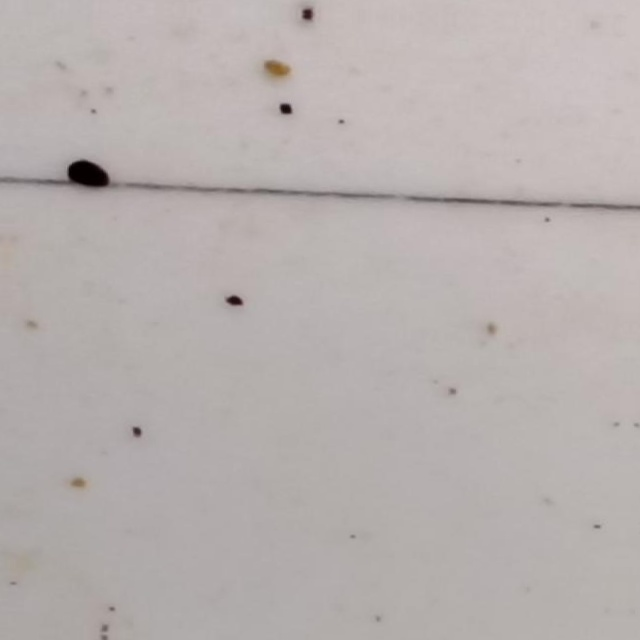varroa: (63, 158, 113, 192)
